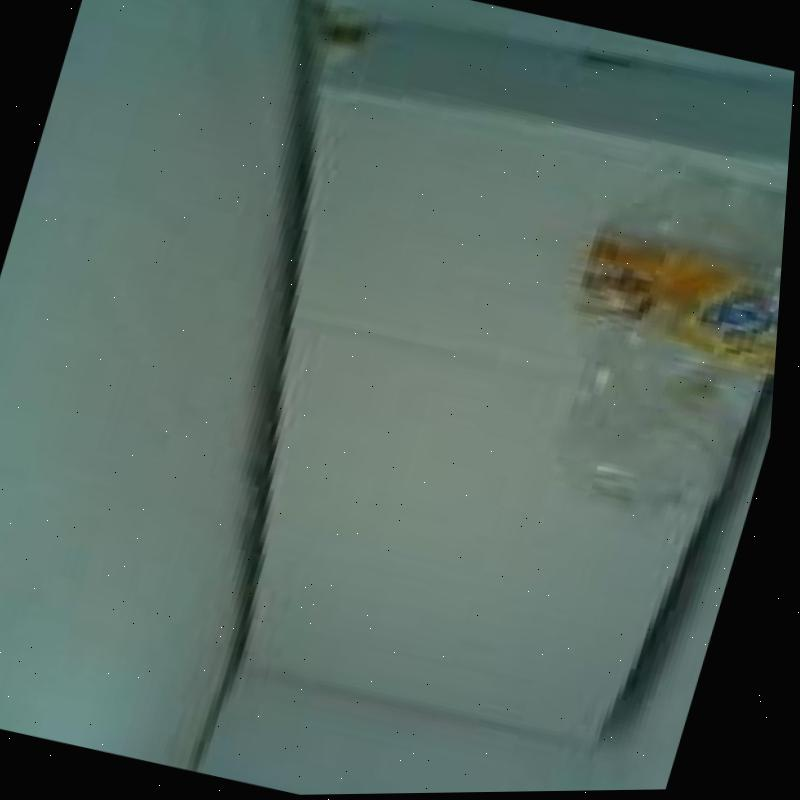botella: (518, 143, 792, 542)
